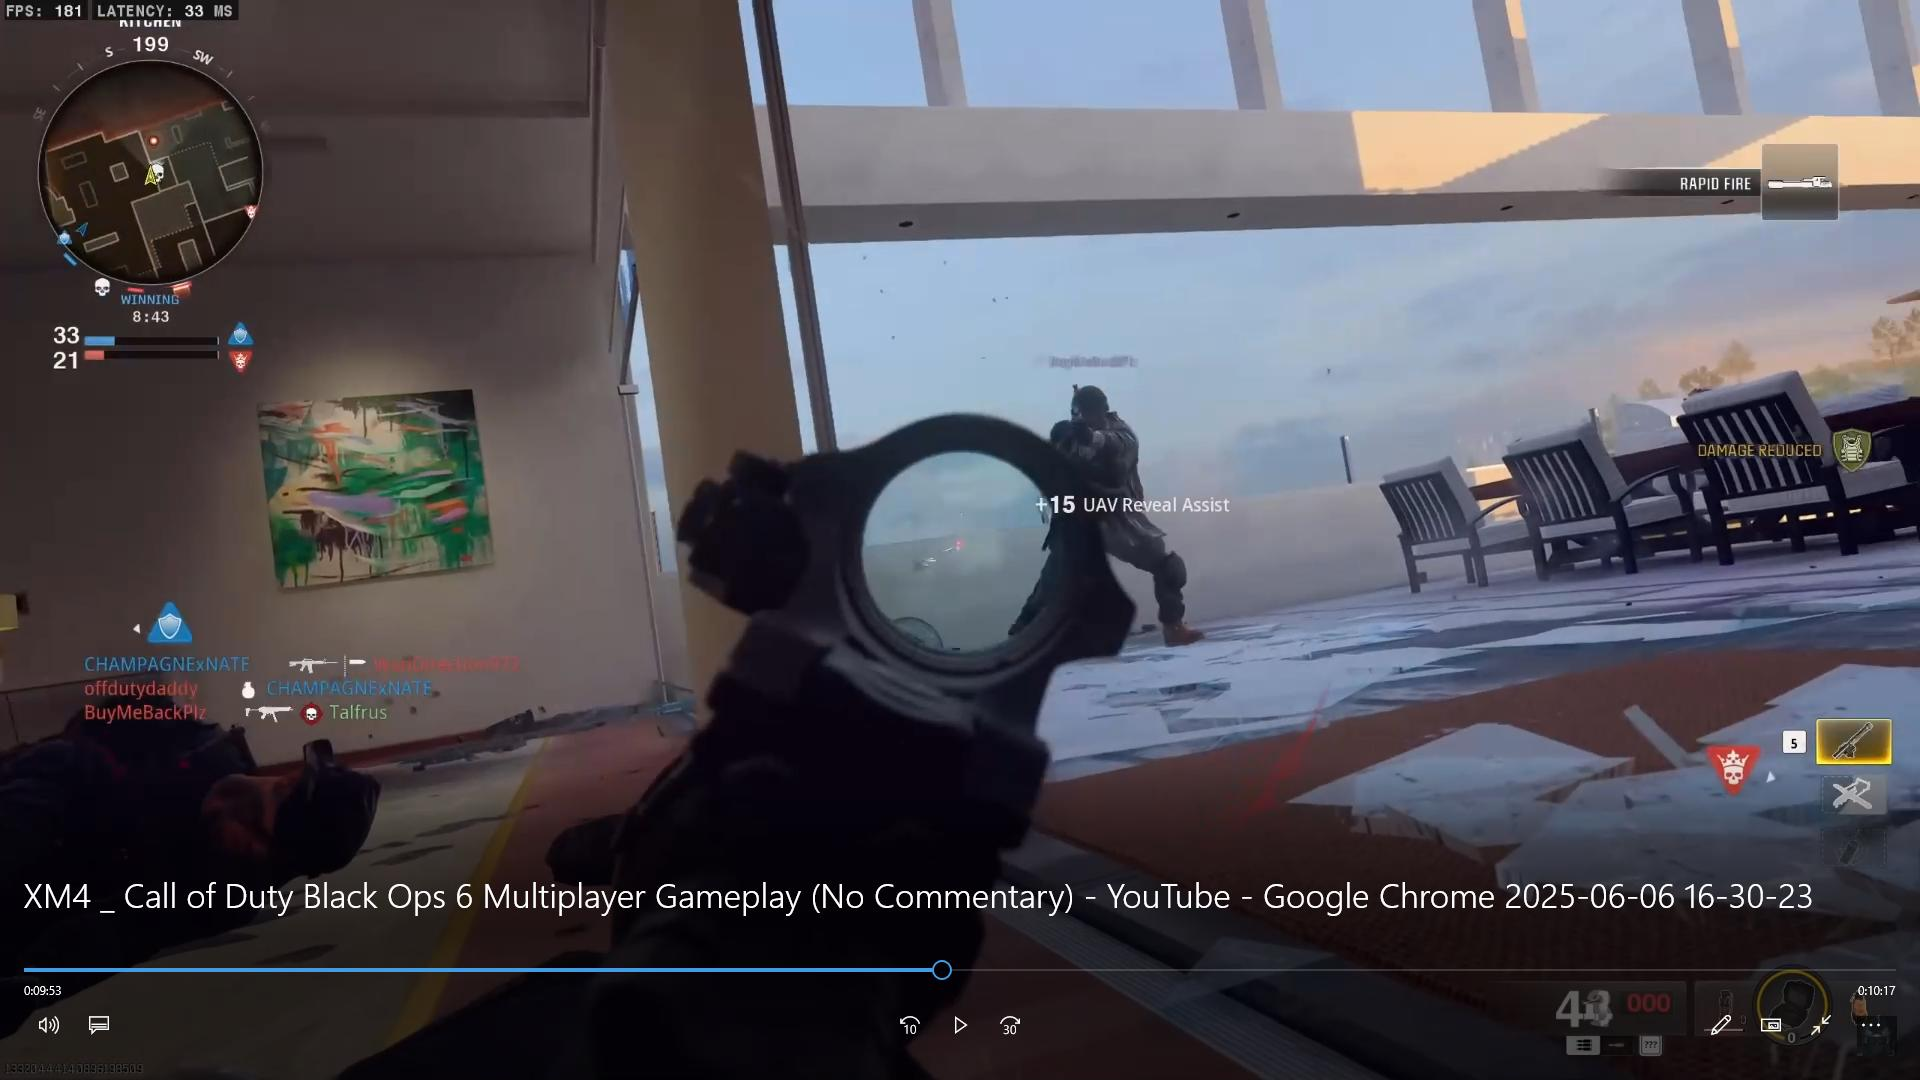Enemy: (1018, 345, 1153, 481)
